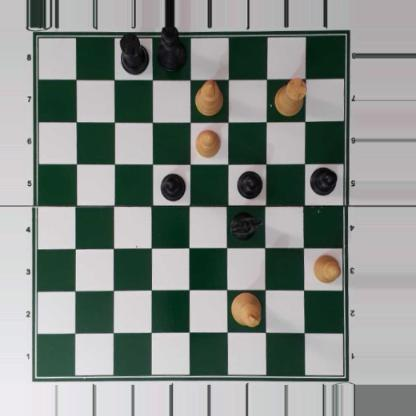black-king: (157, 27, 189, 70)
black-knight: (230, 209, 264, 241)
black-pawn: (159, 171, 186, 202), (309, 166, 337, 195), (237, 169, 263, 199)
black-rook: (118, 32, 150, 75)
white-bishop: (194, 80, 223, 115)
white-king: (230, 291, 261, 330)
white-pawn: (311, 253, 341, 285), (194, 127, 221, 158)
white-rook: (274, 77, 308, 116)
